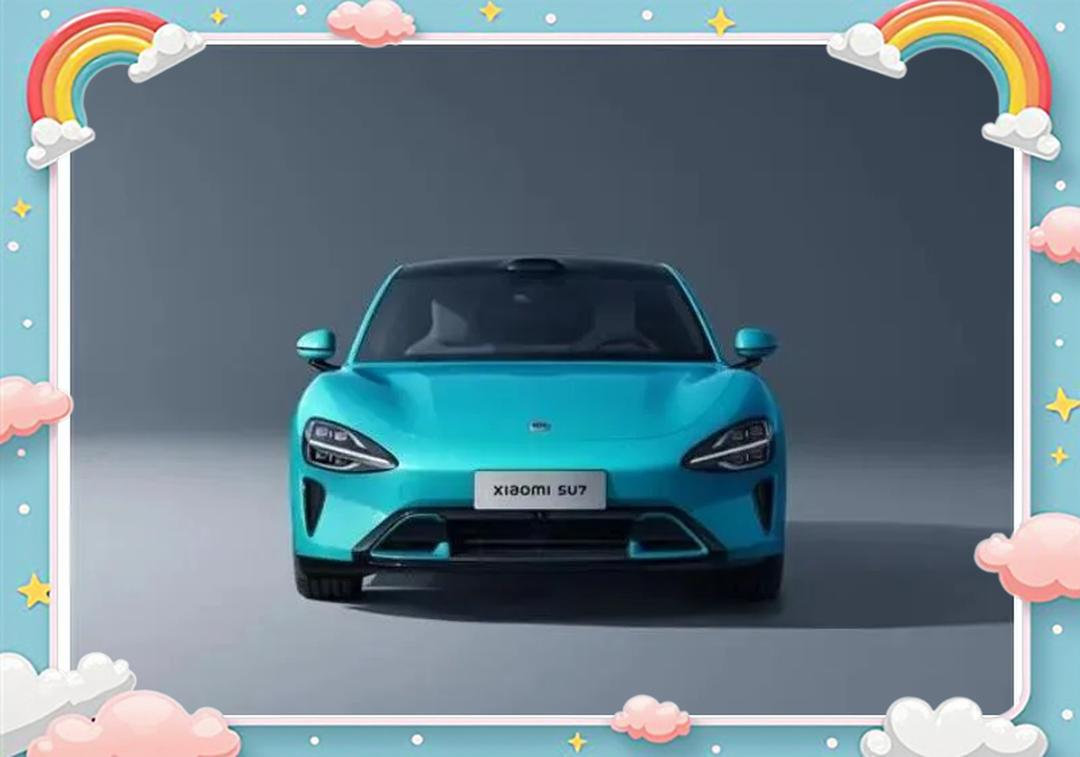su7: (291, 254, 785, 622)
